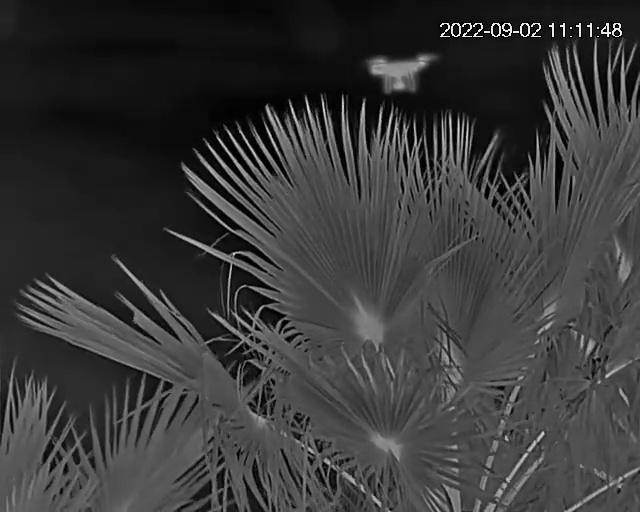DJI-Phantom: (367, 51, 439, 96)
